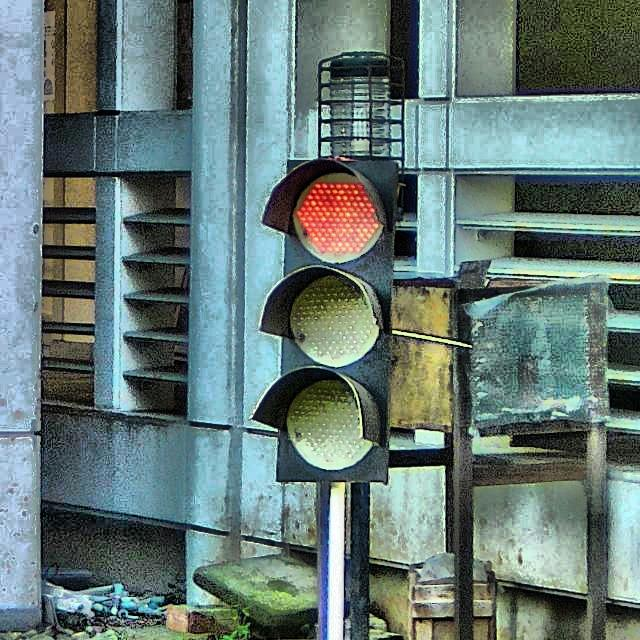red: (279, 160, 388, 483)
